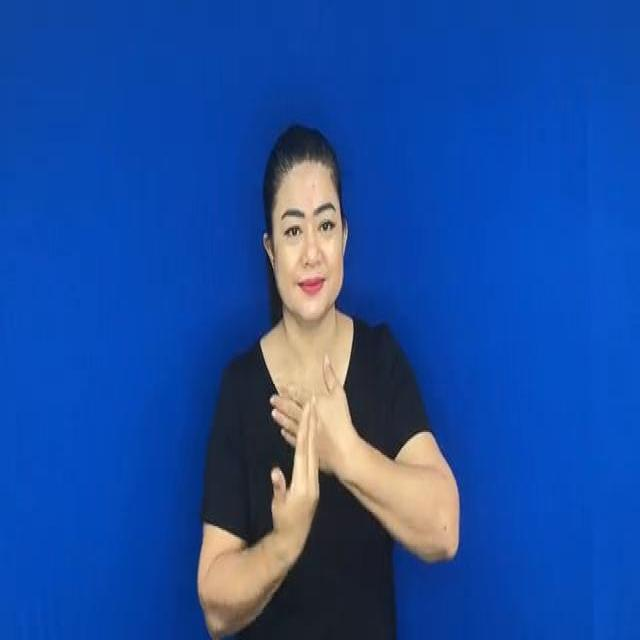bread: (269, 356, 350, 558)
